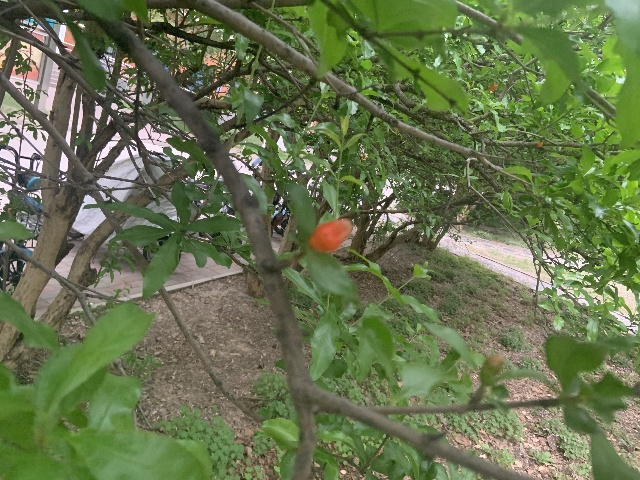bud: (307, 217, 352, 253), (479, 354, 506, 383)
flower: (488, 83, 498, 91)
